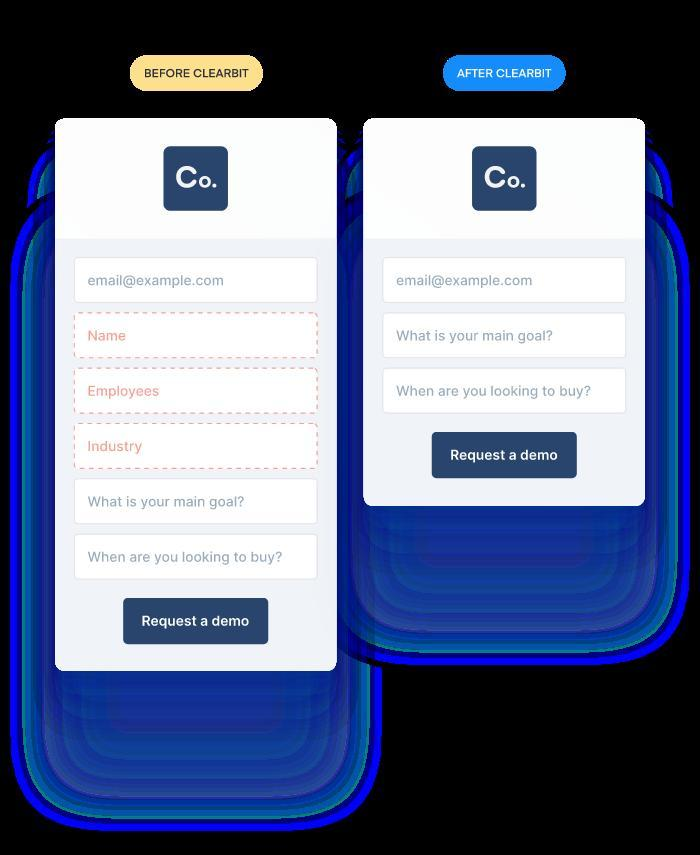button: (432, 432, 577, 480), (122, 600, 271, 645)
input: (75, 313, 319, 361), (81, 532, 318, 579), (73, 260, 317, 305), (78, 369, 317, 414), (71, 425, 321, 465), (387, 317, 632, 357), (389, 261, 628, 302), (78, 481, 317, 520), (387, 372, 620, 412)
label: (458, 63, 557, 85), (134, 68, 255, 80)
